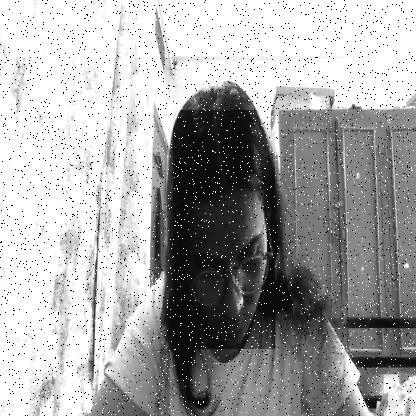Normal: (173, 110, 275, 349)
